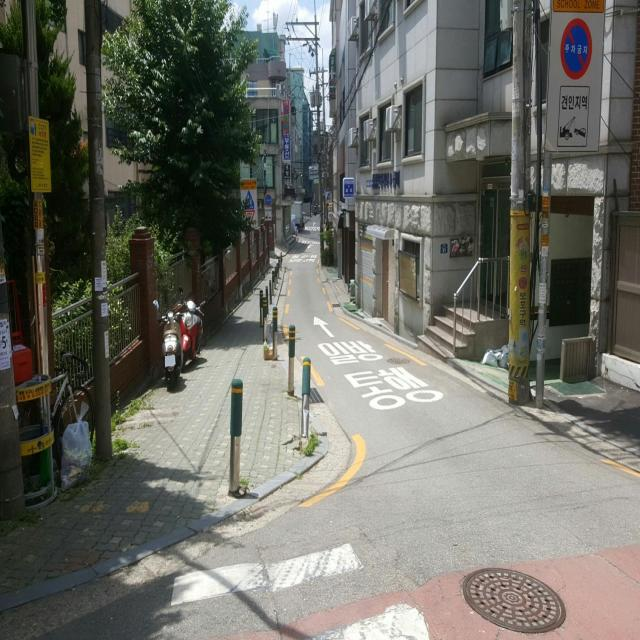횡단보도: (169, 541, 432, 640)
